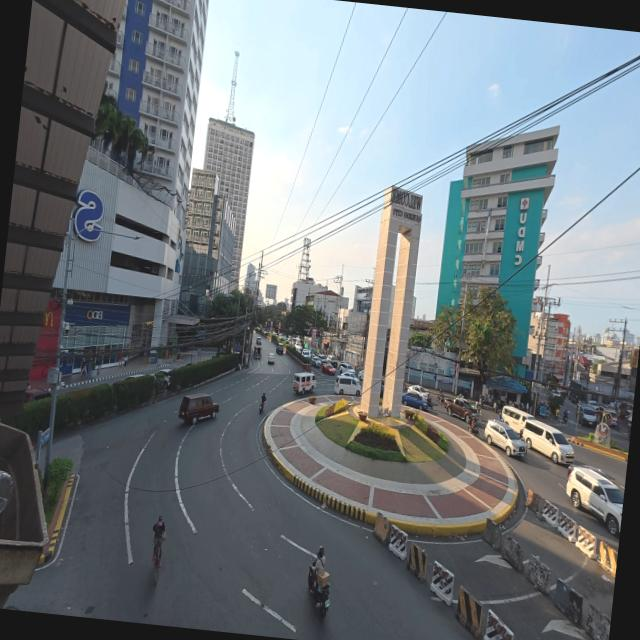Jeepneys: (252, 346, 260, 358)
car: (565, 466, 623, 535), (484, 420, 525, 456), (178, 394, 218, 424), (443, 397, 474, 422), (577, 404, 598, 426), (401, 392, 426, 410), (24, 389, 50, 402), (153, 368, 170, 386), (407, 385, 427, 398), (601, 410, 616, 427), (340, 371, 358, 383), (337, 362, 353, 375), (122, 373, 145, 381), (310, 355, 322, 368), (321, 362, 334, 374), (587, 401, 599, 412), (551, 389, 561, 398), (329, 356, 336, 368), (276, 343, 283, 354), (267, 353, 274, 364), (357, 370, 363, 381), (323, 355, 331, 362), (294, 344, 301, 352), (255, 336, 261, 344)
motorcycle: (307, 564, 329, 617), (467, 417, 481, 438), (258, 402, 264, 413), (562, 412, 567, 424), (438, 392, 443, 404)
trucks: (443, 397, 474, 422)
vans: (522, 419, 573, 464), (500, 406, 533, 434), (333, 375, 359, 396), (576, 404, 597, 426), (292, 373, 314, 393)
